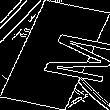M_W: (8, 26, 102, 84)
